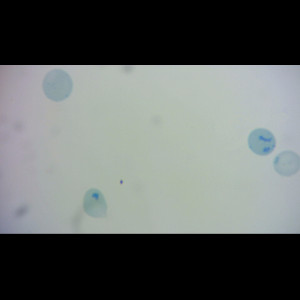aggregate reticulocyte: (246, 127, 278, 157)
erythrocyte: (81, 187, 110, 220), (271, 149, 300, 178)
punctate reticulocyte: (41, 68, 75, 103)
